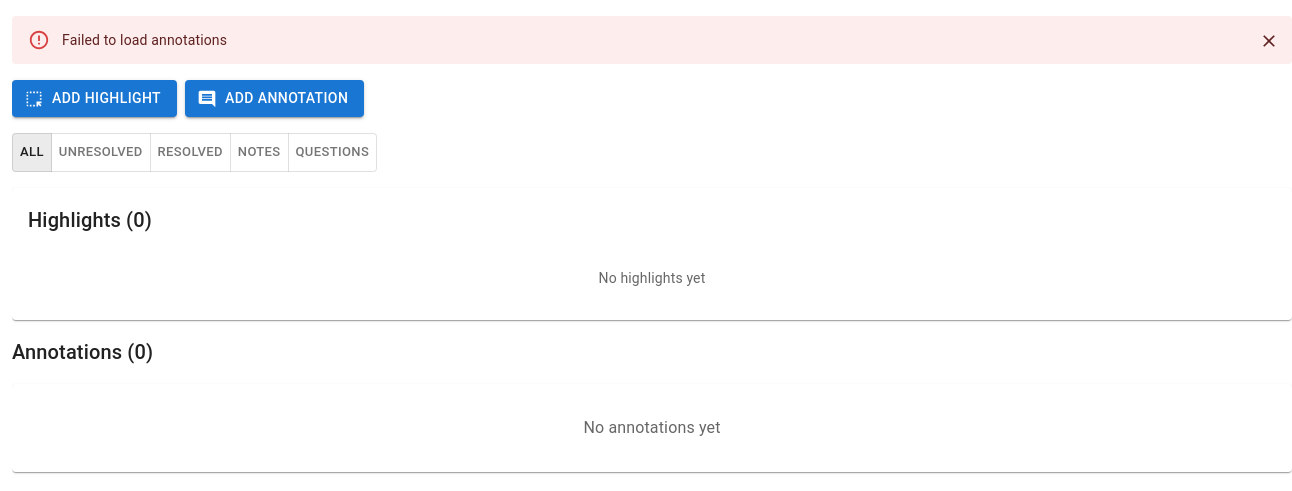
Scenario: AnnotationPanel Component › Error Handling › should allow dismissing error alert
Expected: the text "Failed to load annotations" is shown, [62,32,227,48]
What coordinates should you click on to do the following:
click the button named "close"
I would click on:
 (1269, 41)
Its box is [1254,26,1284,56].
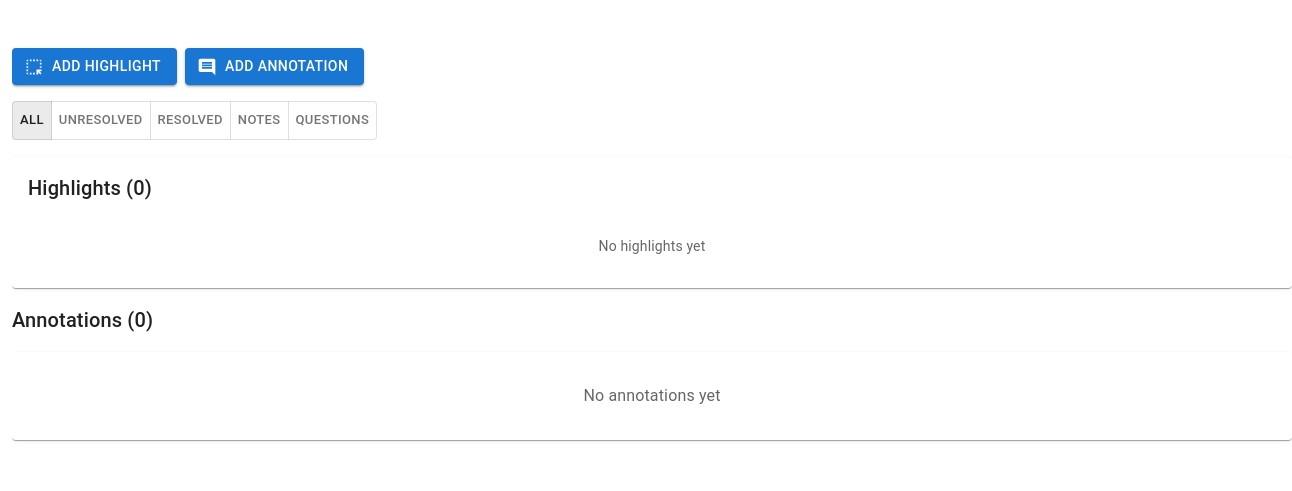
Result: the text "Failed to load annotations" is gone
